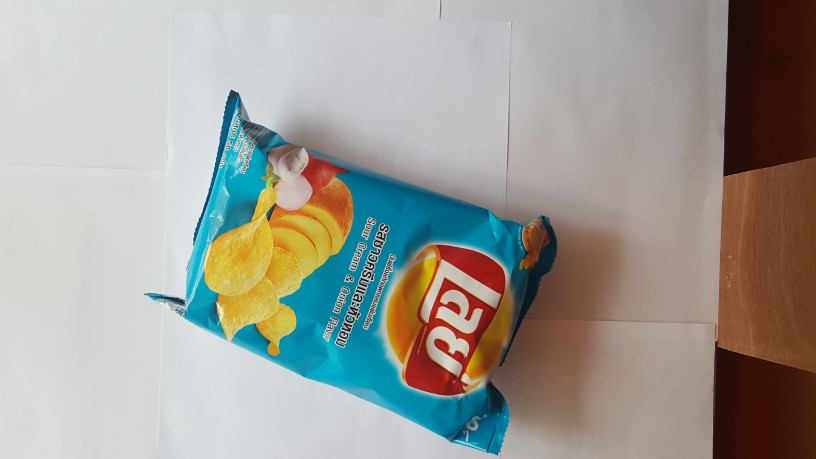lays-onion: (138, 80, 563, 458)
